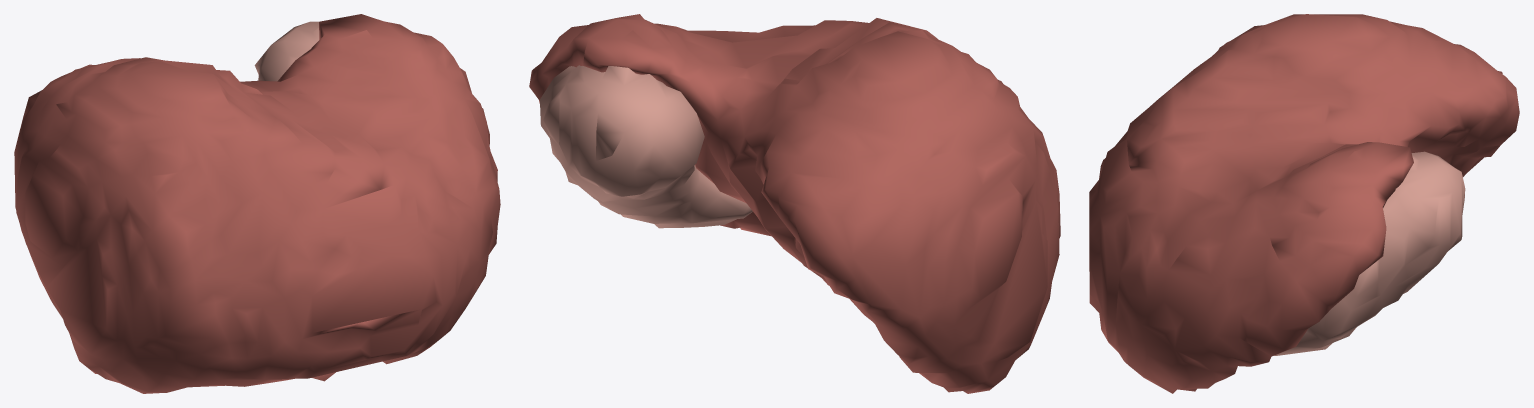
The model's file is fetus.digestive.LOD3.glb.
3 views of the same model, side by side, from view 1: azimuth 30°, elevation 25°; view 2: azimuth 150°, elevation 25°; view 3: azimuth 270°, elevation 25° (orthographic). The views are drawn at different scales.
Visible parts, largest first — view 1: FETUS.DIGESTIVE.LIVER, FETUS.DIGESTIVE.STOMACH; view 2: FETUS.DIGESTIVE.LIVER, FETUS.DIGESTIVE.STOMACH; view 3: FETUS.DIGESTIVE.LIVER, FETUS.DIGESTIVE.STOMACH.
Boxes of the visible parts, x1,y1,x2,y2 form: FETUS.DIGESTIVE.LIVER: [14, 14, 500, 393]; FETUS.DIGESTIVE.STOMACH: [254, 21, 319, 81]; FETUS.DIGESTIVE.LIVER: [529, 14, 1060, 393]; FETUS.DIGESTIVE.STOMACH: [540, 65, 752, 228]; FETUS.DIGESTIVE.LIVER: [1089, 14, 1519, 393]; FETUS.DIGESTIVE.STOMACH: [1274, 151, 1465, 355].
Bounding box in the file's own units: 0.0675 × 0.0431 × 0.0589.
